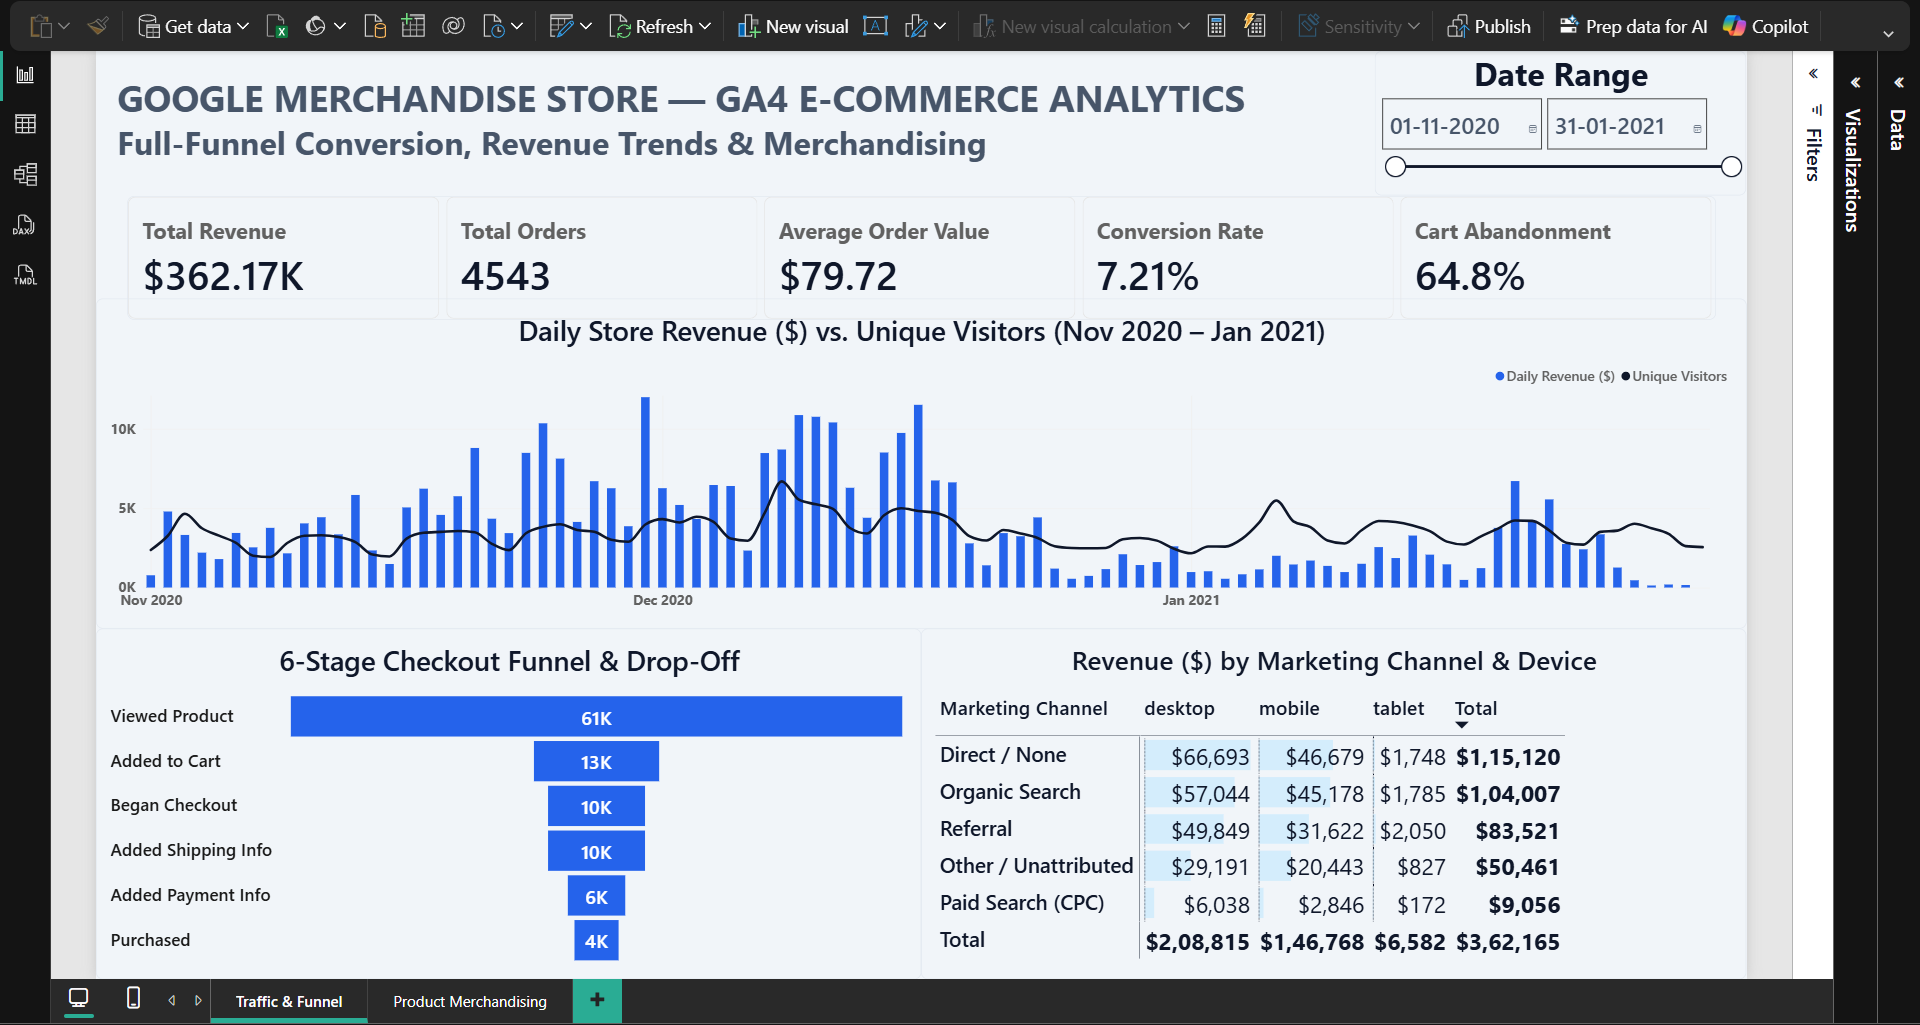

What the dashboard file says about the page in this screenshot:
{"tool":"powerbi","page":{"name":"Traffic & Funnel","canvas":[1920,1080],"ordinal":0},"visuals":[{"type":"textbox","box":[24,24,1392,120],"z":0},{"type":"slicer","title":"Date Range","fields":{"Values":["daily_traffic.date"]},"box":[1488,0,432,168],"z":1000},{"type":"cardVisual","fields":{"Data":["daily_traffic.Total Revenue","daily_traffic.Total Orders","daily_traffic.Average Order Value","daily_traffic.Conversion Rate","daily_traffic.Cart Abandonment"]},"box":[36,168,1848,144],"z":2000},{"type":"funnel","title":"6-Stage Checkout Funnel & Drop-Off","fields":{"Category":["funnel_analysis.funnel_stage"],"Y":["Sum(funnel_analysis.users)"]},"box":[0,672,960,408],"z":3000},{"type":"lineClusteredColumnComboChart","title":"Daily Store Revenue ($) vs. Unique Visitors (Nov 2020 – Jan 2021)","fields":{"Category":["daily_traffic.date"],"Y":["Sum(daily_traffic.daily_revenue)"],"Y2":["Sum(daily_traffic.daily_visitors)"]},"box":[0,288,1920,384],"z":4000},{"type":"pivotTable","title":"Revenue ($) by Marketing Channel & Device","fields":{"Columns":["channel_device_performance.device_category"],"Rows":["channel_device_performance.marketing_channel"],"Values":["Sum(channel_device_performance.total_revenue)"]},"box":[960,672,960,408],"z":5000}]}

Visuals, with their boxes on the page's 1920x1080 design canvas (x1, y1, x2, y2). These are canvas units, not pixel positions in the 1920x1025 screenshot, which may show the page scaled, cropped or inside an application window:
textbox: rect(24, 24, 1416, 144)
"Date Range" slicer: rect(1488, 0, 1920, 168)
cardVisual - daily_traffic.Total Revenue x daily_traffic.Total Orders: rect(36, 168, 1884, 312)
"6-Stage Checkout Funnel & Drop-Off" funnel: rect(0, 672, 960, 1080)
"Daily Store Revenue ($) vs. Unique Visitors (Nov 2020 – Jan 2021)" lineClusteredColumnComboChart: rect(0, 288, 1920, 672)
"Revenue ($) by Marketing Channel & Device" pivotTable: rect(960, 672, 1920, 1080)
